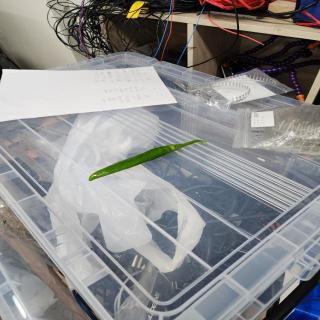Cabai Hijau: (80, 136, 225, 181)
